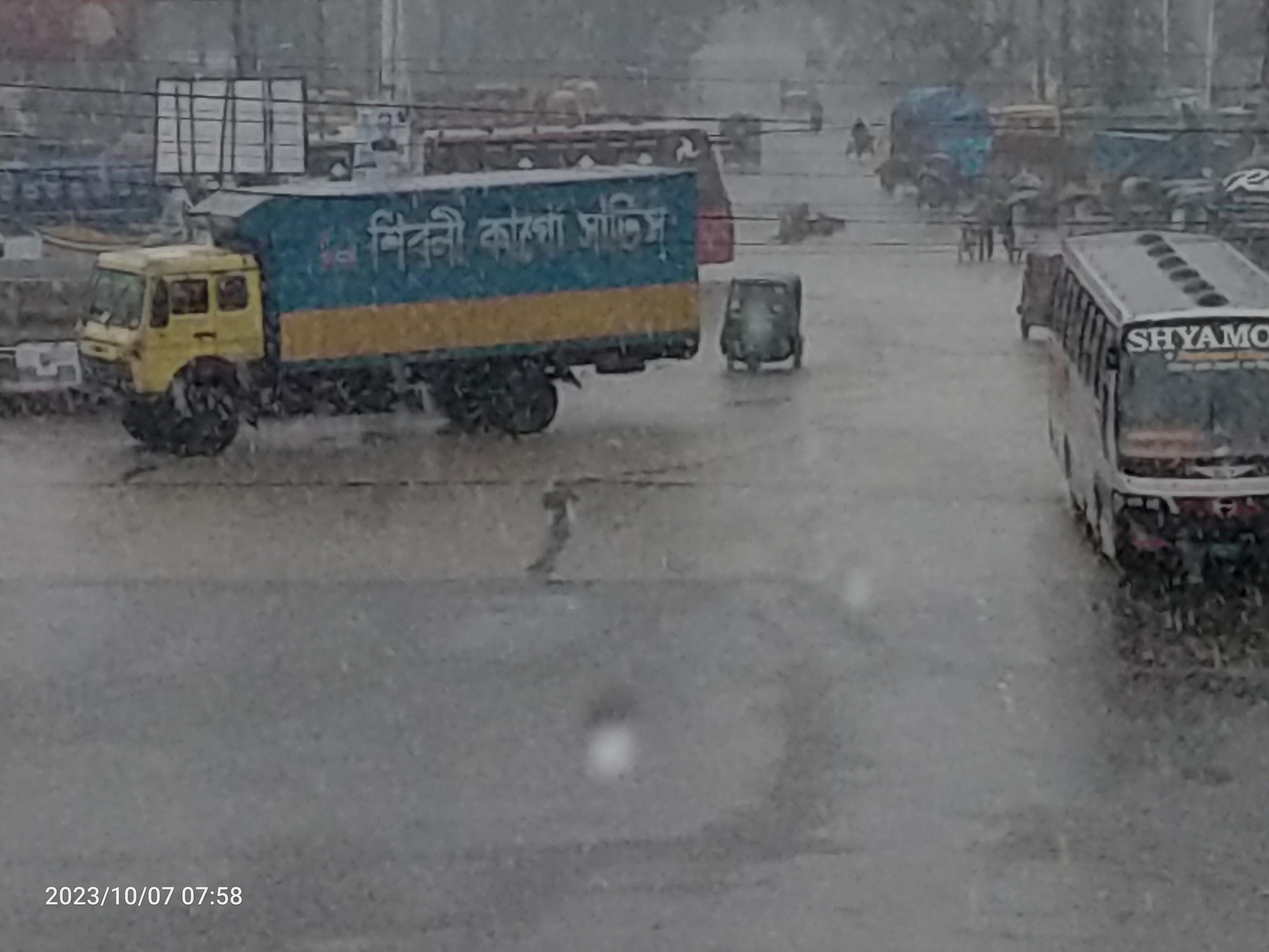Bus: (1036, 202, 1269, 606), (408, 107, 748, 278)
Truck: (51, 160, 708, 477)
